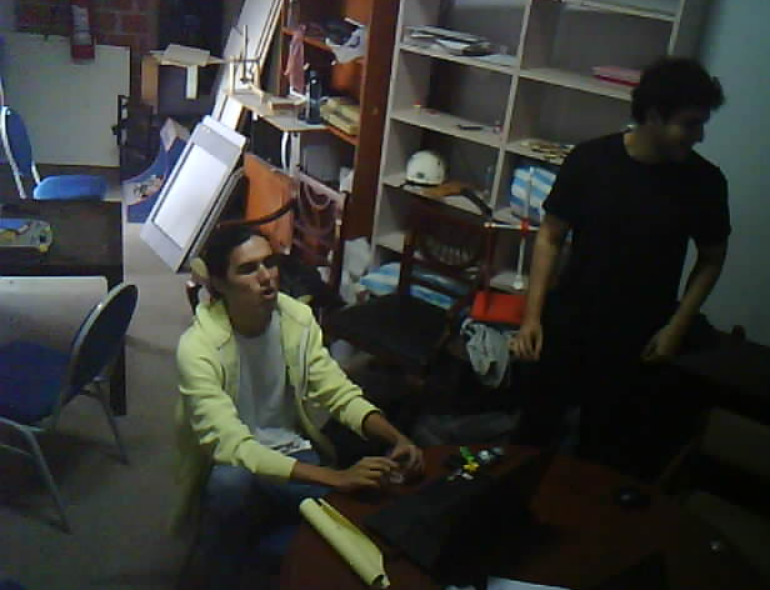person: (146, 207, 433, 590), (508, 18, 736, 486)
